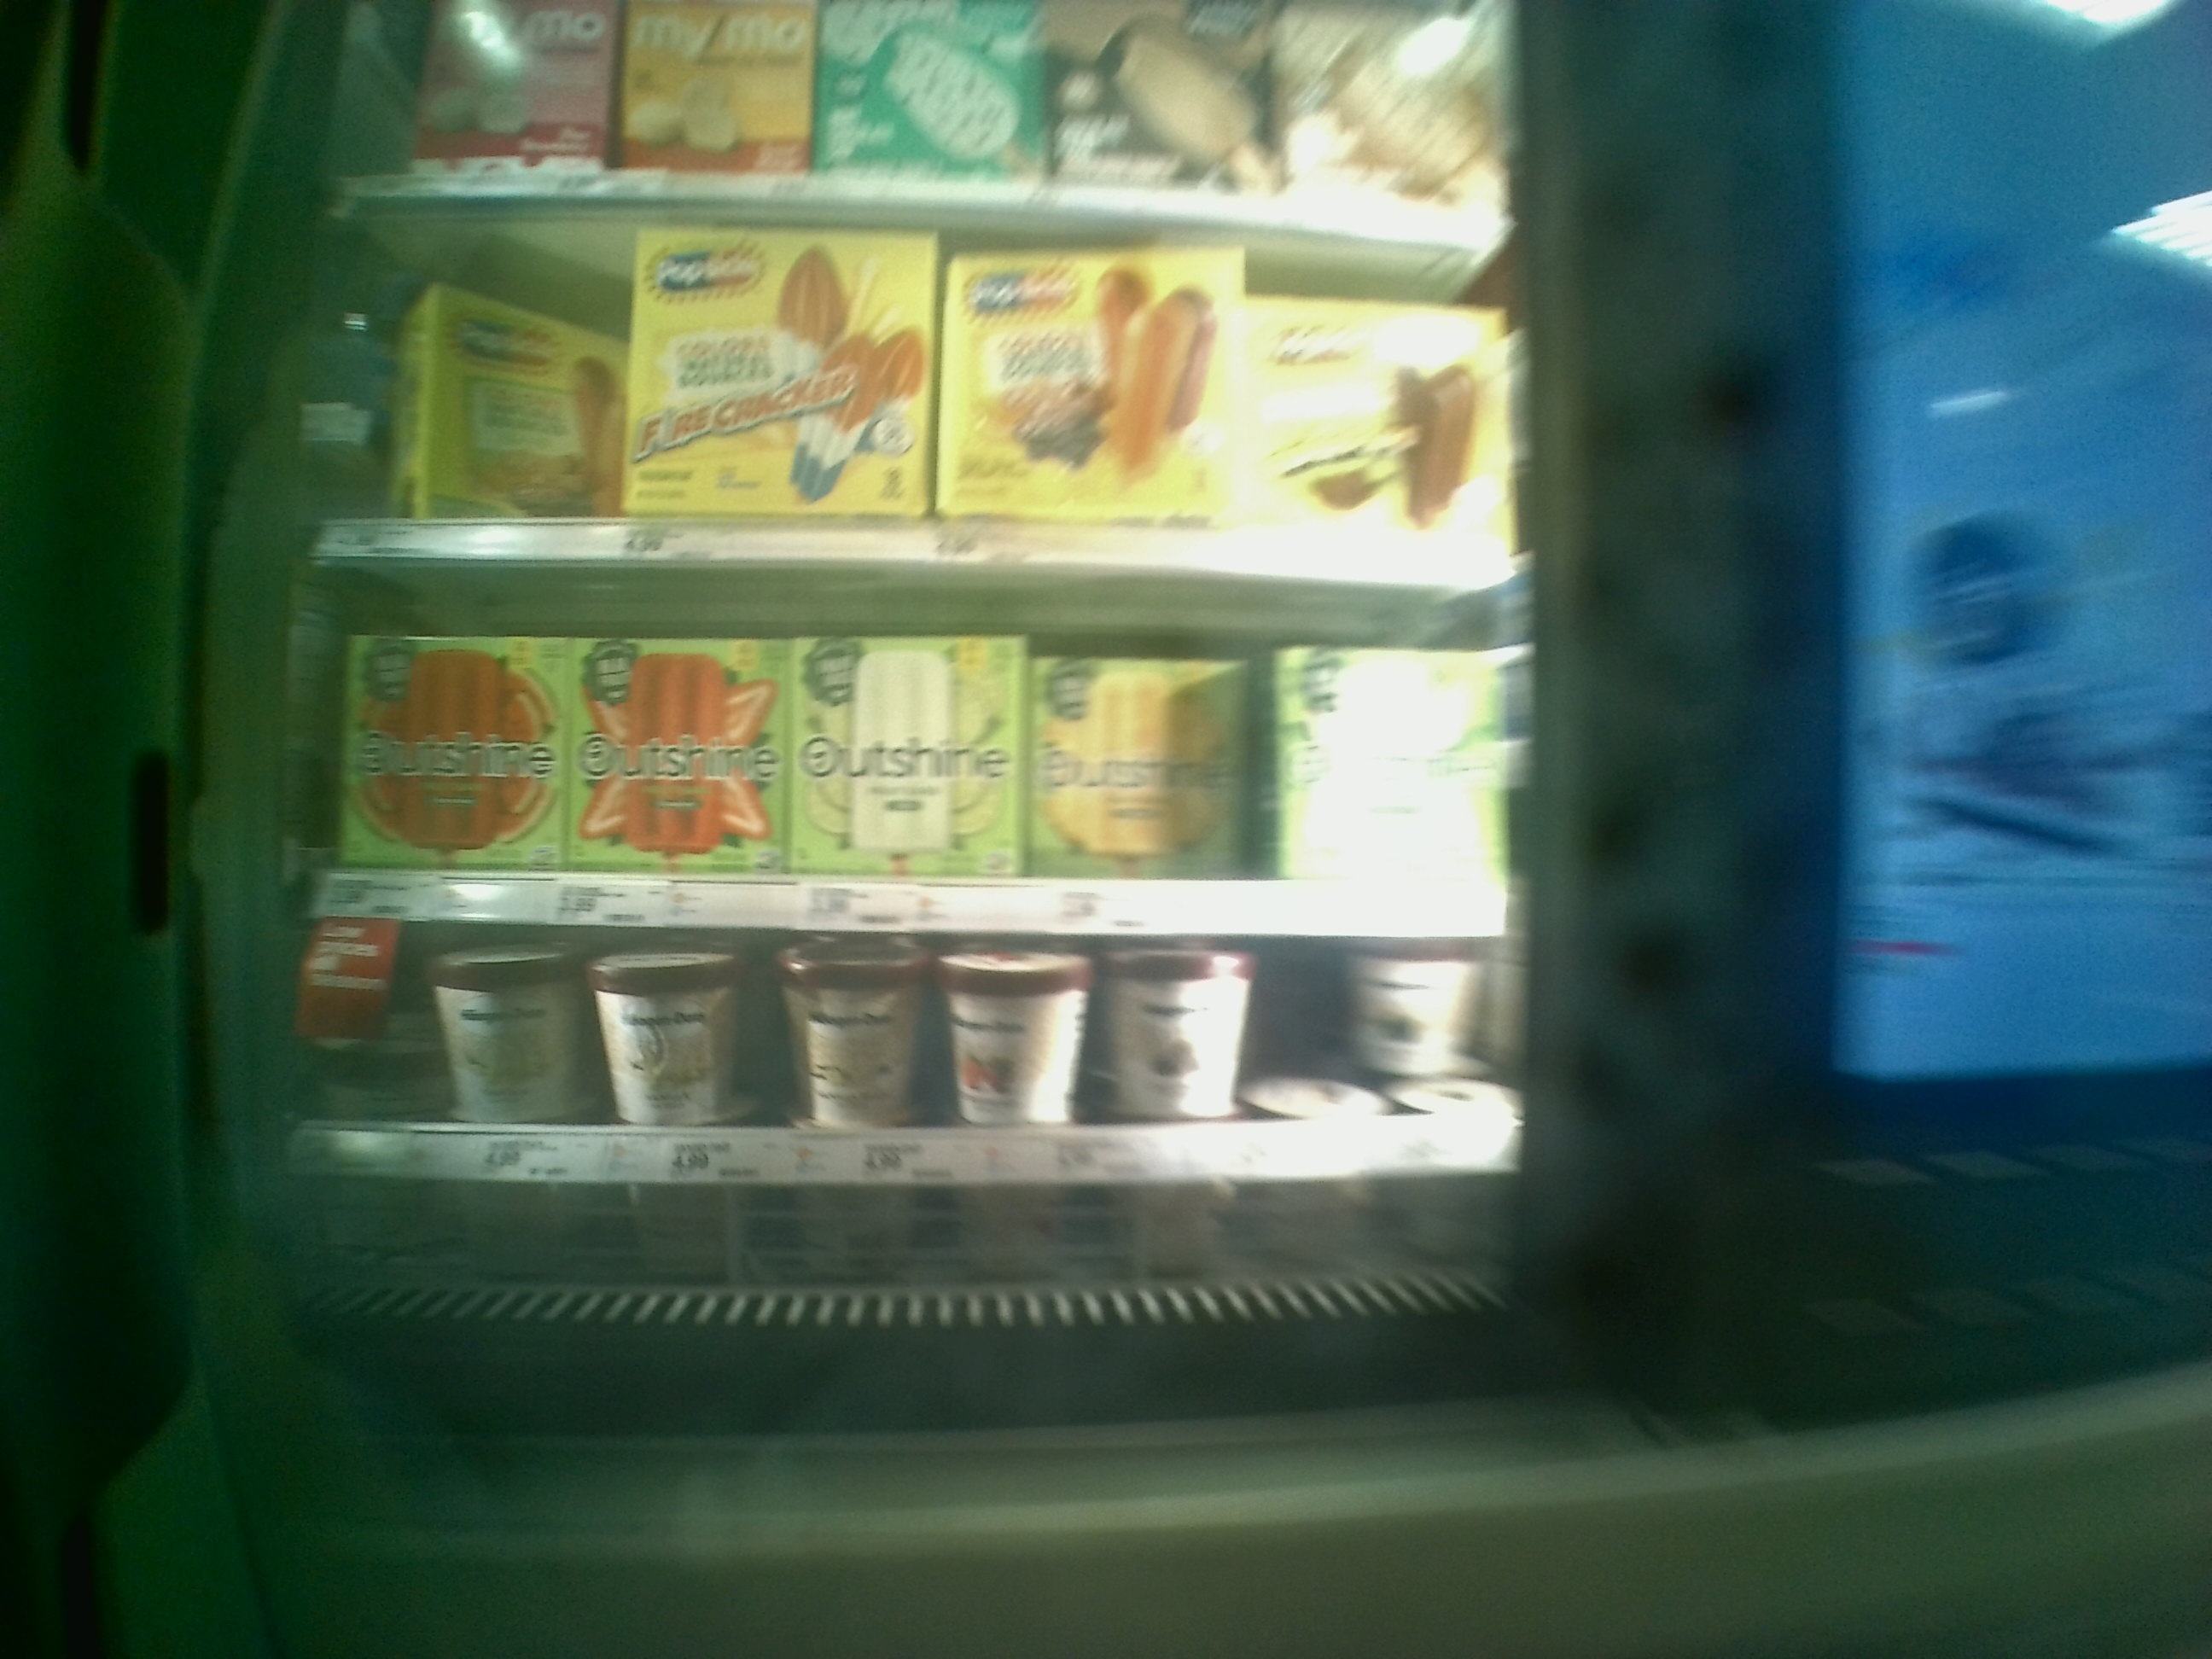shelf: (307, 197, 1514, 586), (308, 556, 1510, 932), (303, 938, 1526, 1244)
